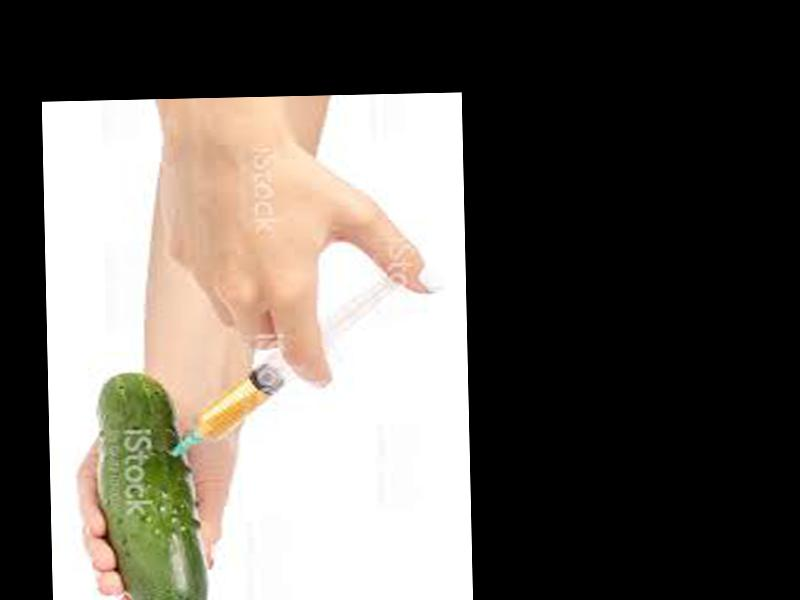Cucumber: (102, 371, 207, 600)
